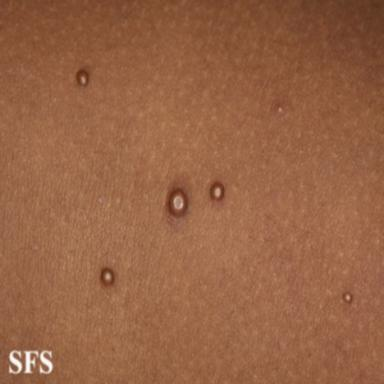Molluscum-Contagiosum: (169, 189, 187, 216), (210, 182, 224, 201), (101, 268, 114, 285), (77, 69, 89, 86), (343, 292, 353, 303)
